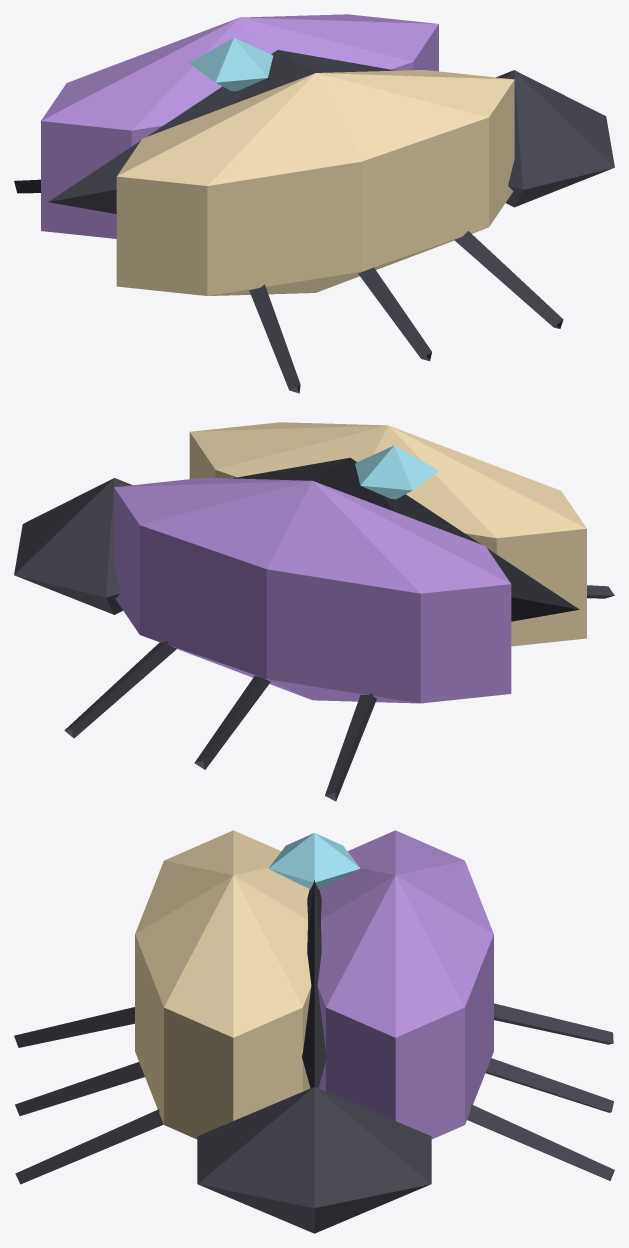
The model's file is deco_scarab.obj.
The picture shows the model from 3 angles, top to bottom: view 1: azimuth 30°, elevation 25°; view 2: azimuth 150°, elevation 25°; view 3: azimuth 270°, elevation 25°; orthographic projection. The views are drawn at different scales.
Visible parts, largest first — view 1: deco_scarab; view 2: deco_scarab; view 3: deco_scarab.
Boxes of the visible parts, x1,y1,x2,y2 form: deco_scarab: (14,14,614,393); deco_scarab: (14,422,614,801); deco_scarab: (14,830,614,1233).
Bounding box in the file's own units: 0.0255 × 0.0104 × 0.0222.
1 material, 1 textured.
